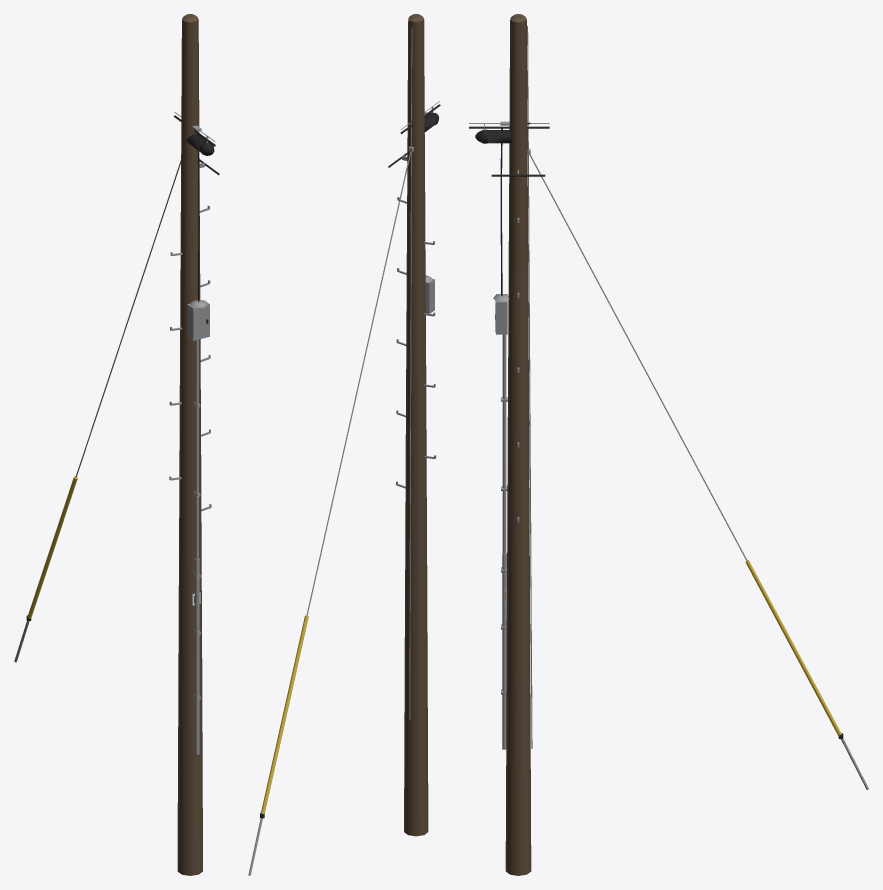
File: pole_telecom.glb
The picture shows the model from 3 angles, left to right: view 1: azimuth 30°, elevation 25°; view 2: azimuth 150°, elevation 25°; view 3: azimuth 270°, elevation 25°; orthographic projection. The views are drawn at different scales.
Parts seen in each view (by area): view 1: Fixed_Wood, Fixed_Galv, Fixed_Black, Fixed_Yellow; view 2: Fixed_Wood, Fixed_Galv, Fixed_Yellow; view 3: Fixed_Wood, Fixed_Galv, Fixed_Black, Fixed_Yellow.
Part boxes in pixels (box(x1,y1,x2,y2)): Fixed_Wood: box(177, 14, 202, 875); Fixed_Galv: box(14, 112, 215, 754); Fixed_Black: box(26, 115, 219, 621); Fixed_Yellow: box(27, 476, 77, 618); Fixed_Wood: box(404, 14, 428, 836); Fixed_Galv: box(248, 28, 439, 875); Fixed_Yellow: box(261, 615, 308, 813); Fixed_Wood: box(505, 14, 531, 875); Fixed_Galv: box(469, 26, 868, 789); Fixed_Black: box(469, 122, 843, 739); Fixed_Yellow: box(745, 560, 841, 736).
Bounding box in the file's own units: 0.5332 × 10.52 × 4.46.
